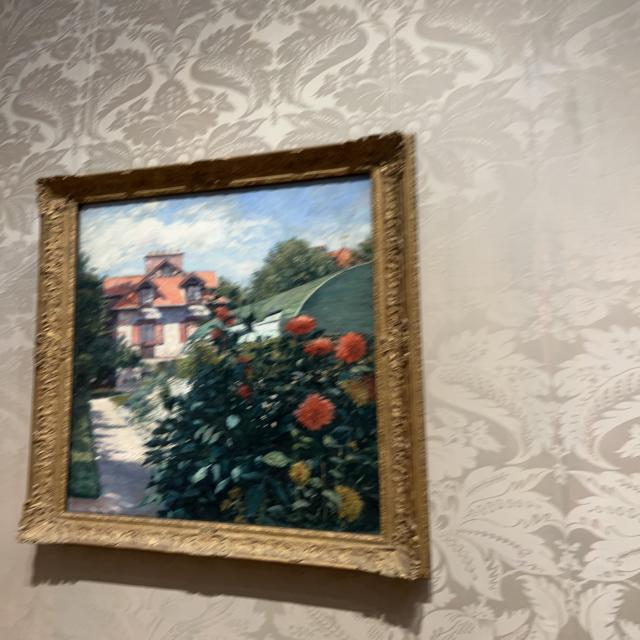summer: (70, 183, 375, 532)
